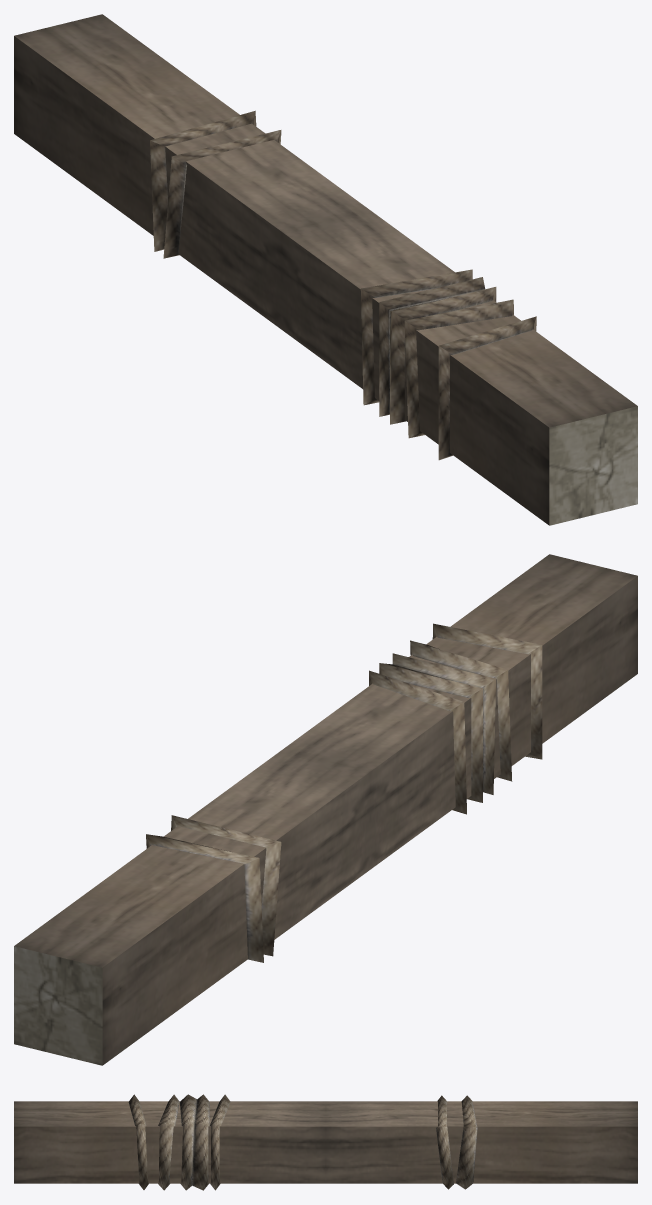
The model's file is Pillar_A.fbx.
3 renders of one model, top to bottom at view 1: azimuth 30°, elevation 25°; view 2: azimuth 150°, elevation 25°; view 3: azimuth 270°, elevation 25°, orthographic. The views are drawn at different scales.
Visible parts, largest first — view 1: Pillar_A; view 2: Pillar_A; view 3: Pillar_A.
Part boxes in pixels (x1,y1,x2,y2): Pillar_A: (14,14,637,525); Pillar_A: (14,554,637,1065); Pillar_A: (14,1094,637,1190).
Size of the model in its own units: 0.4747 by 0.4747 by 4.01.
